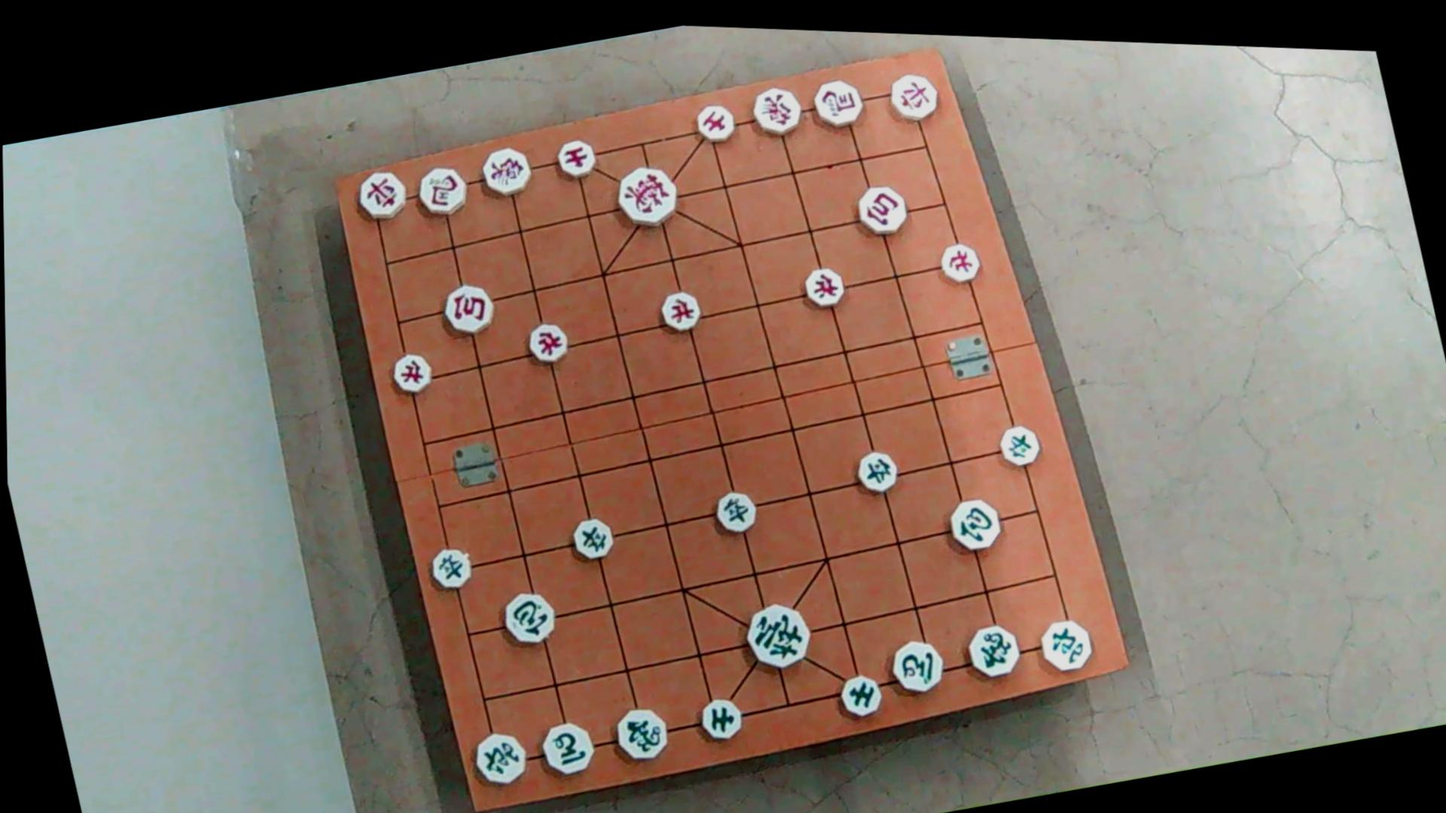cha_green: (466, 725, 535, 790), (1034, 617, 1097, 675)
cha_red: (350, 170, 412, 227), (884, 70, 942, 123)
jol_green: (849, 449, 901, 495), (995, 422, 1045, 468), (568, 518, 618, 564), (424, 544, 475, 589), (710, 489, 760, 534)
jol_red: (389, 351, 438, 395), (657, 290, 706, 334), (932, 242, 981, 285), (523, 321, 571, 364), (802, 266, 850, 309)
ma_green: (534, 719, 597, 777), (889, 639, 950, 697)
ma_red: (413, 166, 472, 221), (804, 78, 864, 130)
po_green: (499, 590, 560, 647), (945, 497, 1005, 554)
po_red: (853, 184, 912, 238), (439, 283, 497, 337)
sa_green: (694, 695, 746, 747), (837, 671, 887, 720)
sa_red: (691, 102, 740, 145), (552, 137, 599, 179)
sang_green: (963, 620, 1024, 684), (611, 704, 670, 763)
sang_red: (746, 84, 804, 139), (477, 147, 535, 201)
wang_green: (739, 603, 816, 674)
wang_red: (611, 166, 682, 231)
